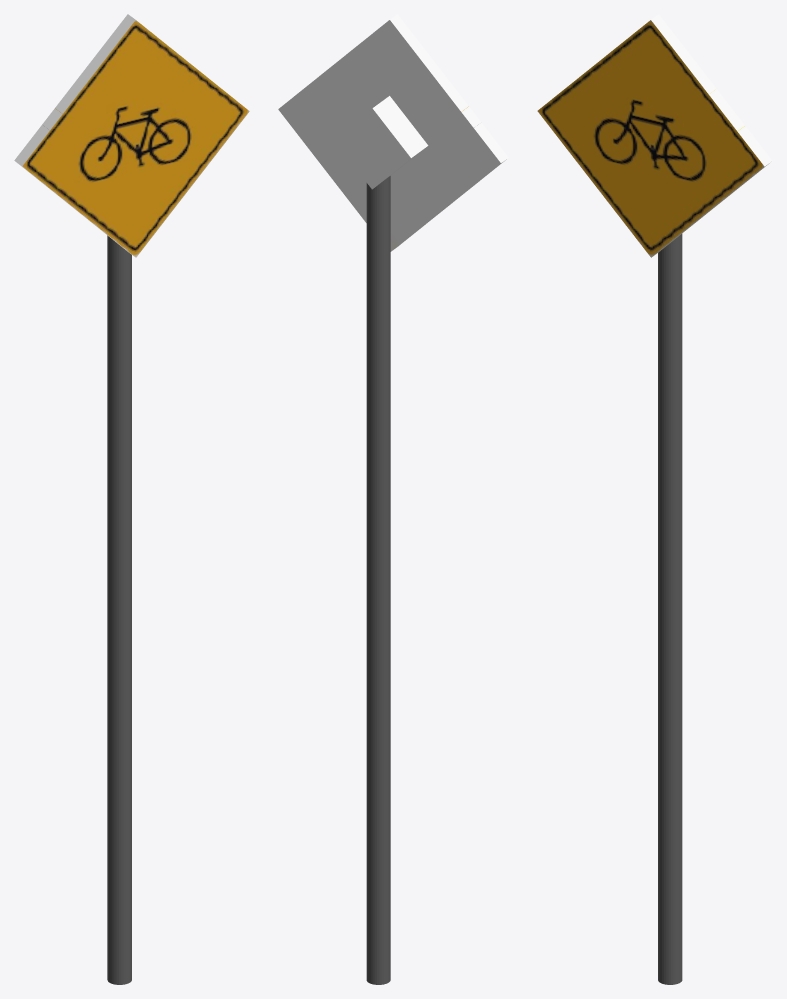
Rendered from BIKESIGN.fbx.
The picture shows the model from 3 angles, left to right: view 1: azimuth 30°, elevation 25°; view 2: azimuth 150°, elevation 25°; view 3: azimuth 330°, elevation 25°; orthographic projection. The views are drawn at different scales.
Parts seen in each view (by area): view 1: Plane.001, Cylinder.001; view 2: Plane.001, Cylinder.001; view 3: Plane.001, Cylinder.001.
Boxes of the visible parts, box(x1,y1,x2,y2) form: Plane.001: box(14, 14, 249, 257); Cylinder.001: box(107, 235, 131, 984); Plane.001: box(278, 14, 508, 251); Cylinder.001: box(366, 176, 390, 984); Plane.001: box(537, 14, 772, 257); Cylinder.001: box(658, 234, 682, 984).
Size of the model in its own units: 67.3 by 275 by 13.12.
2 materials, 1 textured.
